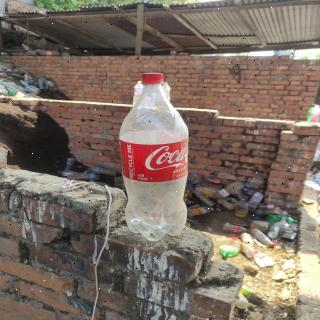Plastic-bottle: (115, 70, 196, 247)
